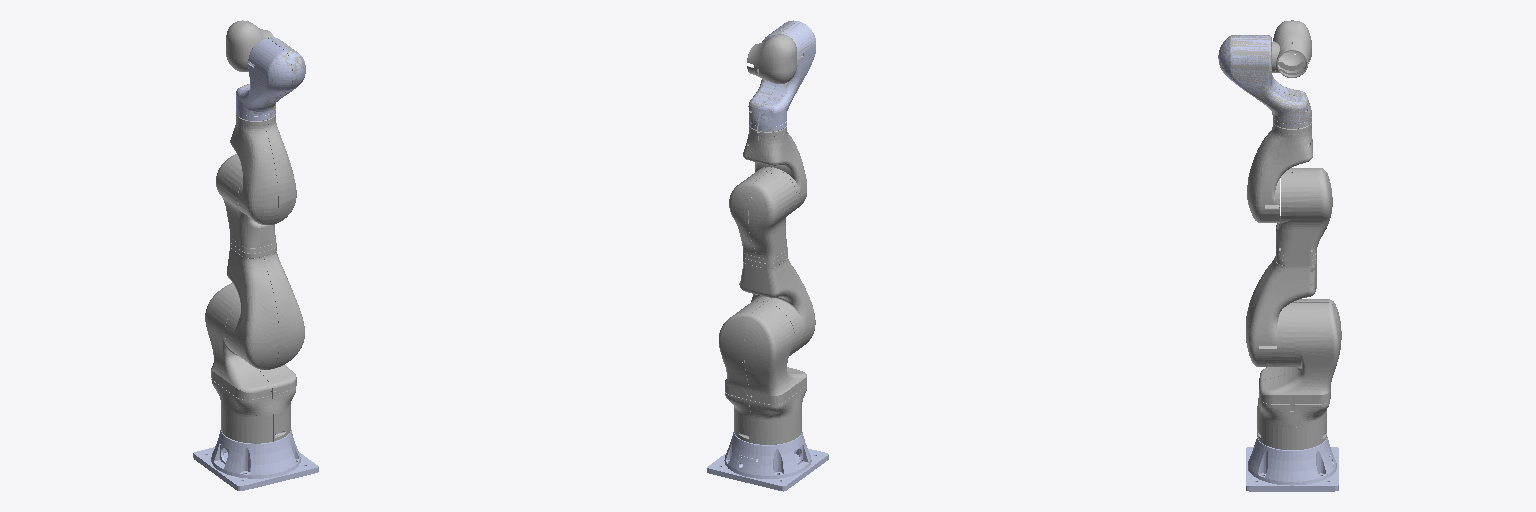
robot.urdf — scorpio_arm_description:
<robot
  name="scorpio_arm_description">
  <link
    name="base_link">
    <inertial>
      <origin
        xyz="0.0019716460984453 -0.012785762257813 0.214352740235452"
        rpy="0 0 0" />
      <mass
        value="2.50584431442898" />
      <inertia
        ixx="0.456881131210235"
        ixy="2.22814339134445E-06"
        ixz="0.000711173304633452"
        iyy="0.454517409549147"
        iyz="0.0299138881314551"
        izz="0.00340958147405569" />
    </inertial>
    <visual>
      <origin
        xyz="0 0 0"
        rpy="0 0 0" />
      <geometry>
        <mesh
          filename="package://scorpio_arm_description/meshes/base_link.STL" />
      </geometry>
      <material
        name="">
        <color
          rgba="0.792156862745098 0.819607843137255 0.933333333333333 1" />
      </material>
    </visual>
    <collision>
      <origin
        xyz="0 0 0"
        rpy="0 0 0" />
      <geometry>
        <mesh
          filename="package://scorpio_arm_description/meshes/base_link.STL" />
      </geometry>
    </collision>
  </link>
  <link
    name="link1">
    <inertial>
      <origin
        xyz="-0.000477211763040641 0.00737171225105654 0.0673262959495374"
        rpy="0 0 0" />
      <mass
        value="0.462790481374203" />
      <inertia
        ixx="0.000939965910200995"
        ixy="1.64506977488471E-06"
        ixz="-2.63906539352484E-05"
        iyy="0.00212746857726697"
        iyz="-0.000232679816143088"
        izz="0.00200259662994076" />
    </inertial>
    <visual>
      <origin
        xyz="0 0 0"
        rpy="0 0 0" />
      <geometry>
        <mesh
          filename="package://scorpio_arm_description/meshes/link1.STL" />
      </geometry>
      <material
        name="">
        <color
          rgba="0.752941176470588 0.752941176470588 0.752941176470588 1" />
      </material>
    </visual>
    <collision>
      <origin
        xyz="0 0 0"
        rpy="0 0 0" />
      <geometry>
        <mesh
          filename="package://scorpio_arm_description/meshes/link1.STL" />
      </geometry>
    </collision>
  </link>
  <joint
    name="joint1"
    type="continuous">
    <origin
      xyz="0 0 0.1115"
      rpy="-1.65436122510606E-24 2.16239755607771E-34 1.77925042286121E-10" />
    <parent
      link="base_link" />
    <child
      link="link1" />
    <axis
      xyz="0 0 1" />
  </joint>
  <link
    name="link2">
    <inertial>
      <origin
        xyz="0.000424568456060143 0.353718613538131 -0.0239145484479154"
        rpy="0 0 0" />
      <mass
        value="0.449203640099022" />
      <inertia
        ixx="0.0015378612168218"
        ixy="-8.28836534643512E-05"
        ixz="-8.85331181664519E-06"
        iyy="0.00079847279197285"
        iyz="0.000260149183654036"
        izz="0.00223846447973205" />
    </inertial>
    <visual>
      <origin
        xyz="0 0 0"
        rpy="0 0 0" />
      <geometry>
        <mesh
          filename="package://scorpio_arm_description/meshes/link2.STL" />
      </geometry>
      <material
        name="">
        <color
          rgba="0.752941176470588 0.752941176470588 0.752941176470588 1" />
      </material>
    </visual>
    <collision>
      <origin
        xyz="0 0 0"
        rpy="0 0 0" />
      <geometry>
        <mesh
          filename="package://scorpio_arm_description/meshes/link2.STL" />
      </geometry>
    </collision>
  </link>
  <joint
    name="joint2"
    type="revolute">
    <origin
      xyz="0 0.00775000309120119 0.314499999923826"
      rpy="1.57079631696602 1.748803E-18 0" />
    <parent
      link="link1" />
    <child
      link="link2" />
    <axis
      xyz="0 0 -1" />
  </joint>
  <link
    name="link3">
    <inertial>
      <origin
        xyz="0.000152270903093772 0.0924043712968591 0.00966148757711546"
        rpy="0 0 0" />
      <mass
        value="0.417553118840387" />
      <inertia
        ixx="0.000778760838885269"
        ixy="-3.1319846533593E-05"
        ixz="9.73666822020838E-06"
        iyy="0.00074740822193102"
        iyz="0.000238313418273415"
        izz="0.00134923661677296" />
    </inertial>
    <visual>
      <origin
        xyz="0 0 0"
        rpy="0 0 0" />
      <geometry>
        <mesh
          filename="package://scorpio_arm_description/meshes/link3.STL" />
      </geometry>
      <material
        name="">
        <color
          rgba="0.752941176470588 0.752941176470588 0.752941176470588 1" />
      </material>
    </visual>
    <collision>
      <origin
        xyz="0 0 0"
        rpy="0 0 0" />
      <geometry>
        <mesh
          filename="package://scorpio_arm_description/meshes/link3.STL" />
      </geometry>
    </collision>
  </link>
  <joint
    name="joint3"
    type="revolute">
    <origin
      xyz="0 0.425000094137191 0.0409999999690292"
      rpy="0 0 0" />
    <parent
      link="link2" />
    <child
      link="link3" />
    <axis
      xyz="0 0 -1" />
  </joint>
  <link
    name="link4">
    <inertial>
      <origin
        xyz="0.000109431918928782 -0.0771585635179768 0.124643446015446"
        rpy="0 0 0" />
      <mass
        value="0.389829536577821" />
      <inertia
        ixx="0.000675923696287507"
        ixy="1.42692185757275E-05"
        ixz="-1.80236338044172E-05"
        iyy="0.000935956861167347"
        iyz="0.000316733780223225"
        izz="0.000711962809217492" />
    </inertial>
    <visual>
      <origin
        xyz="0 0 0"
        rpy="0 0 0" />
      <geometry>
        <mesh
          filename="package://scorpio_arm_description/meshes/link4.STL" />
      </geometry>
      <material
        name="">
        <color
          rgba="0.745098039215686 0.745098039215686 0.745098039215686 1" />
      </material>
    </visual>
    <collision>
      <origin
        xyz="0 0 0"
        rpy="0 0 0" />
      <geometry>
        <mesh
          filename="package://scorpio_arm_description/meshes/link4.STL" />
      </geometry>
    </collision>
  </link>
  <joint
    name="joint4"
    type="revolute">
    <origin
      xyz="-1.49404937541016E-05 0.228498306290499 -0.03324788012514"
      rpy="-1.5707963267949 0 0" />
    <parent
      link="link3" />
    <child
      link="link4" />
    <axis
      xyz="0 0 1" />
  </joint>
  <link
    name="link5">
    <inertial>
      <origin
        xyz="0.0132001765719637 -0.0164540607163493 0.0540429526197033"
        rpy="0 0 0" />
      <mass
        value="0.0811653306860956" />
      <inertia
        ixx="7.49049082009069E-05"
        ixy="3.51814648257455E-05"
        ixz="-3.14990513890253E-06"
        iyy="3.82422818938195E-05"
        iyz="2.22116237083292E-07"
        izz="9.12577041800548E-05" />
    </inertial>
    <visual>
      <origin
        xyz="0 0 0"
        rpy="0 0 0" />
      <geometry>
        <mesh
          filename="package://scorpio_arm_description/meshes/link5.STL" />
      </geometry>
      <material
        name="">
        <color
          rgba="0.752941176470588 0.752941176470588 0.752941176470588 1" />
      </material>
    </visual>
    <collision>
      <origin
        xyz="0 0 0"
        rpy="0 0 0" />
      <geometry>
        <mesh
          filename="package://scorpio_arm_description/meshes/link5.STL" />
      </geometry>
    </collision>
  </link>
  <joint
    name="joint5"
    type="revolute">
    <origin
      xyz="-1.61883600108297E-05 -0.0575007543564076 0.196500000000001"
      rpy="1.5707963267949 0 3.14159265358979" />
    <parent
      link="link4" />
    <child
      link="link5" />
    <axis
      xyz="0 0 1" />
  </joint>
  <link
    name="link6">
    <inertial>
      <origin
        xyz="0.00891683355181057 0.0202838591937038 0.0013451998345921"
        rpy="0 0 0" />
      <mass
        value="0.186980317446745" />
      <inertia
        ixx="0.000196619525906284"
        ixy="-6.8236441896507E-06"
        ixz="1.96915299826278E-06"
        iyy="0.000137520242557688"
        iyz="-9.01592610411392E-05"
        izz="0.000107455603746989" />
    </inertial>
    <visual>
      <origin
        xyz="0 0 0"
        rpy="0 0 0" />
      <geometry>
        <mesh
          filename="package://scorpio_arm_description/meshes/link6.STL" />
      </geometry>
      <material
        name="">
        <color
          rgba="0.752941176470588 0.752941176470588 0.752941176470588 1" />
      </material>
    </visual>
    <collision>
      <origin
        xyz="0 0 0"
        rpy="0 0 0" />
      <geometry>
        <mesh
          filename="package://scorpio_arm_description/meshes/link6.STL" />
      </geometry>
    </collision>
  </link>
  <joint
    name="joint6"
    type="revolute">
    <origin
      xyz="-0.0753999562300418 0 0.0575000019805907"
      rpy="3.14159265358979 -1.5707963267949 0" />
    <parent
      link="link5" />
    <child
      link="link6" />
    <axis
      xyz="0 0 -1" />
  </joint>
</robot>

--- Render facts (derived) ---
The picture shows the robot from 3 angles, left to right: view 1: azimuth 30°, elevation 25°; view 2: azimuth 150°, elevation 25°; view 3: azimuth 270°, elevation 25°; orthographic projection.
Robot: scorpio_arm_description — 7 links, 6 joints (5 revolute, 1 continuous); root link base_link; default pose: every joint at zero.
Visible links, largest first — view 1: link2, base_link, link1, link3, link5; view 2: link1, link2, base_link, link3, link5; view 3: link2, link1, base_link, link3, link4, link5.
Boxes of the visible links, x1,y1,x2,y2 form: link2: [216, 154, 304, 369]; base_link: [193, 37, 318, 490]; link1: [205, 283, 296, 443]; link3: [230, 114, 296, 224]; link5: [226, 20, 273, 71]; link1: [719, 301, 806, 444]; link2: [729, 167, 815, 355]; base_link: [707, 20, 828, 491]; link3: [743, 126, 806, 211]; link5: [747, 34, 796, 83]; link2: [1246, 168, 1332, 366]; link1: [1257, 299, 1341, 449]; base_link: [1218, 35, 1338, 491]; link3: [1247, 122, 1312, 222]; link4: [1219, 35, 1311, 128]; link5: [1272, 20, 1311, 77].
Bounding box of the posed robot: 0.26 × 0.3438 × 1.37 m (x, y, z).
6 mesh visuals loaded from 7 distinct referenced files (6 binary STL); not drawn: 1 (reference not matched to a file when rendering).